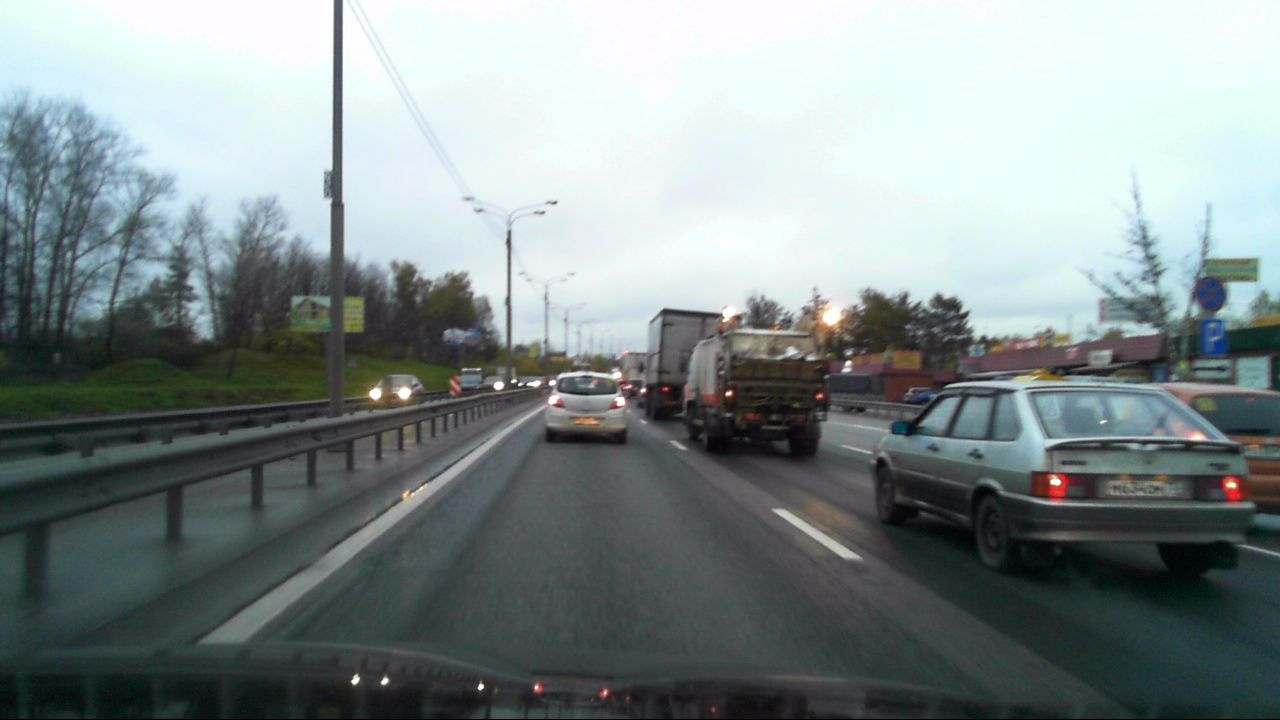No Parking: (1196, 276, 1225, 311)
